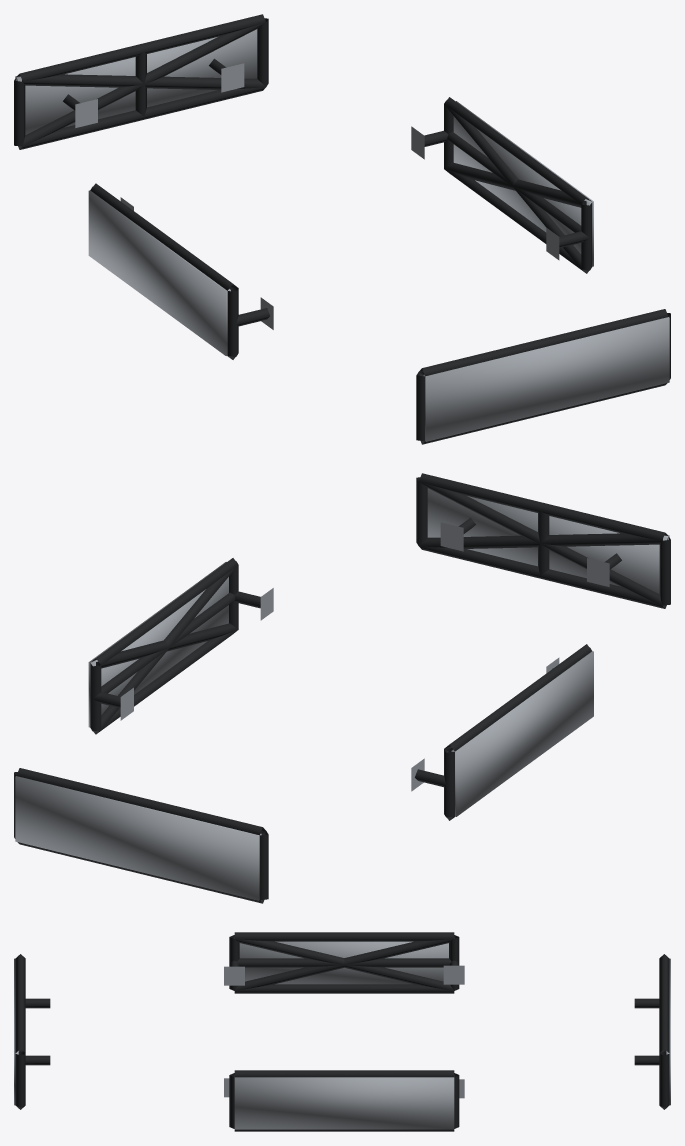
The model's file is ottavo_broto_protecao.glb.
3 renders of one model, top to bottom at view 1: azimuth 30°, elevation 25°; view 2: azimuth 150°, elevation 25°; view 3: azimuth 270°, elevation 25°, orthographic. The views are drawn at different scales.
Parts seen in each view (by area): view 1: Protection_front_Level3_Details, Protection_left_Level3_Details, Protection_rear_Level1_Details, Protection_rear_Level3_Details, Protection_right_Level1_Details, Protection_rear_Level2_Details, Protection_right_Level2_Details, Protection_front_Level1_Details, Protection_right_Level3_Details, Protection_left_Level1_Details; view 2: Protection_rear_Level3_Details, Protection_left_Level3_Details, Protection_front_Level1_Details, Protection_front_Level3_Details, Protection_right_Level1_Details, Protection_front_Level2_Details, Protection_right_Level2_Details, Protection_rear_Level1_Details, Protection_right_Level3_Details, Protection_left_Level1_Details; view 3: Protection_right_Level3_Details, Protection_left_Level1_Details, Protection_left_Level2_Details, Protection_left_Level3_Details, Protection_right_Level1_Details, Protection_rear_Level1_Details, Protection_front_Level1_Details.
Part boxes in pixels (left/top/right/bottom): Protection_front_Level3_Details: left=423, top=317, right=669, bottom=441; Protection_left_Level3_Details: left=88, top=190, right=230, bottom=355; Protection_rear_Level1_Details: left=14, top=14, right=268, bottom=149; Protection_rear_Level3_Details: left=15, top=29, right=257, bottom=134; Protection_right_Level1_Details: left=411, top=97, right=592, bottom=273; Protection_rear_Level2_Details: left=16, top=22, right=265, bottom=148; Protection_right_Level2_Details: left=444, top=105, right=591, bottom=272; Protection_front_Level1_Details: left=416, top=309, right=670, bottom=444; Protection_right_Level3_Details: left=453, top=101, right=593, bottom=266; Protection_left_Level1_Details: left=90, top=183, right=273, bottom=359; Protection_rear_Level3_Details: left=15, top=776, right=261, bottom=900; Protection_left_Level3_Details: left=451, top=651, right=593, bottom=816; Protection_front_Level1_Details: left=416, top=473, right=670, bottom=608; Protection_front_Level3_Details: left=427, top=488, right=669, bottom=593; Protection_right_Level1_Details: left=90, top=558, right=273, bottom=734; Protection_front_Level2_Details: left=419, top=481, right=668, bottom=607; Protection_right_Level2_Details: left=91, top=565, right=238, bottom=733; Protection_rear_Level1_Details: left=14, top=768, right=268, bottom=903; Protection_right_Level3_Details: left=88, top=562, right=228, bottom=727; Protection_left_Level1_Details: left=411, top=644, right=591, bottom=820; Protection_right_Level3_Details: left=234, top=1077, right=454, bottom=1129; Protection_left_Level1_Details: left=224, top=932, right=464, bottom=993; Protection_left_Level2_Details: left=234, top=935, right=454, bottom=990; Protection_left_Level3_Details: left=239, top=941, right=448, bottom=984; Protection_right_Level1_Details: left=224, top=1070, right=464, bottom=1131; Protection_rear_Level1_Details: left=634, top=954, right=669, bottom=1109; Protection_front_Level1_Details: left=15, top=954, right=50, bottom=1109.
Size of the model in its own units: 1.78 by 0.354 by 3.44.
Materials: 1 (1 with a texture image).
